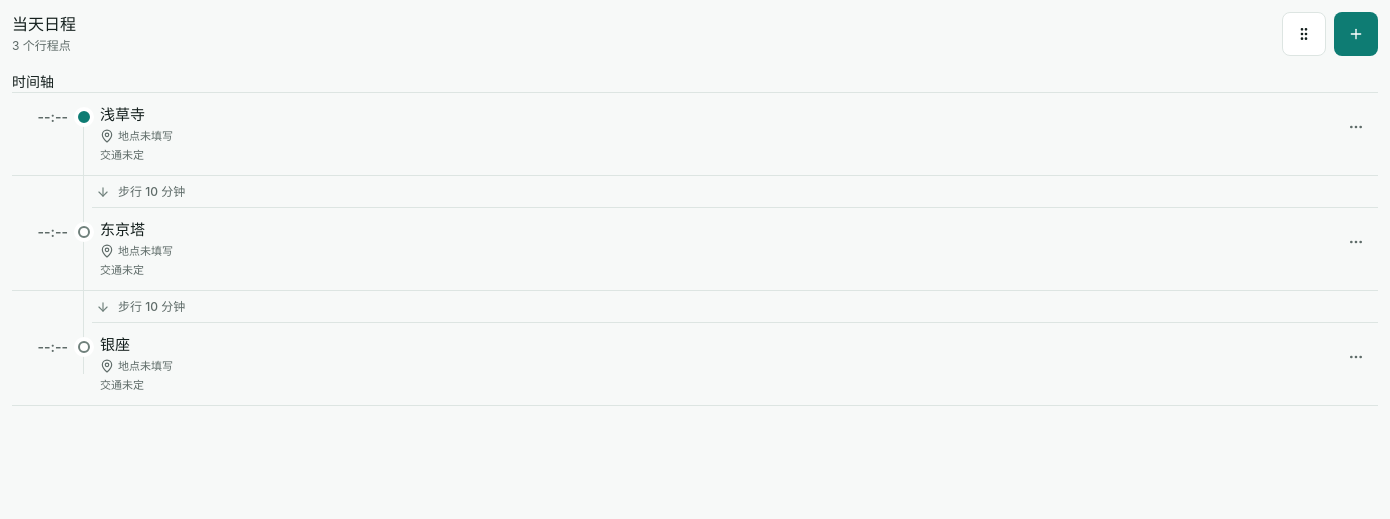
Scenario: DayTimelineView › previews, saves and reports an accessible manual order change
The image size is (1390, 519).
Click the button named "排序" at (1304, 34), box [1282, 12, 1326, 56]
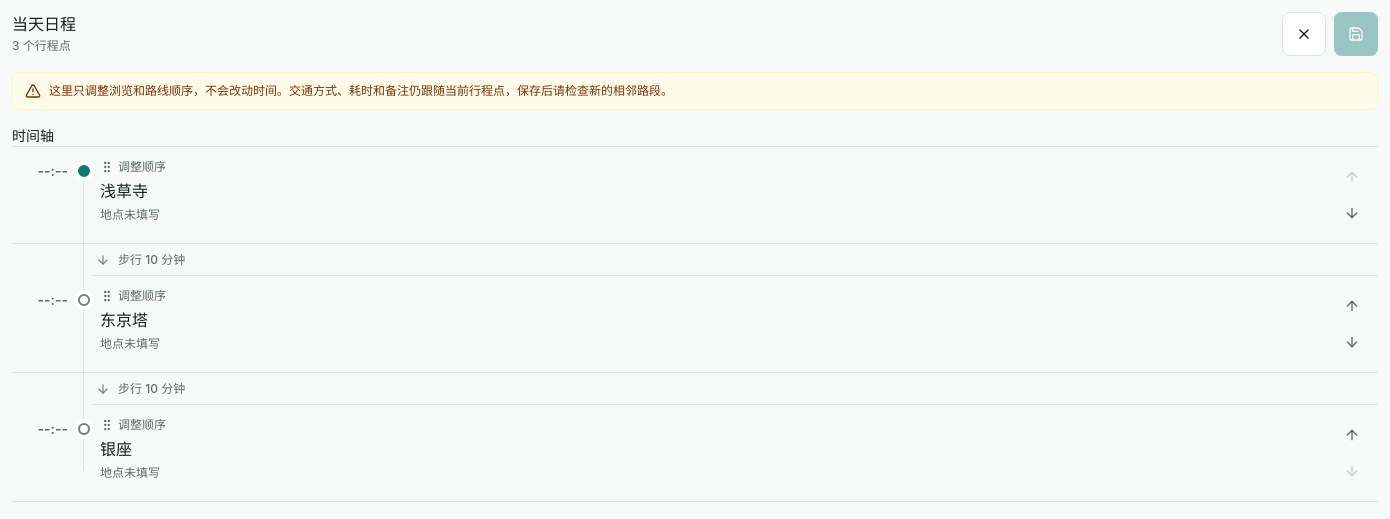
expect the text "这里只调整浏览和路线顺序" is shown: met, box [49, 83, 673, 98]
Click the button named "下移浅草寺" at (1352, 213), box [1334, 195, 1370, 231]
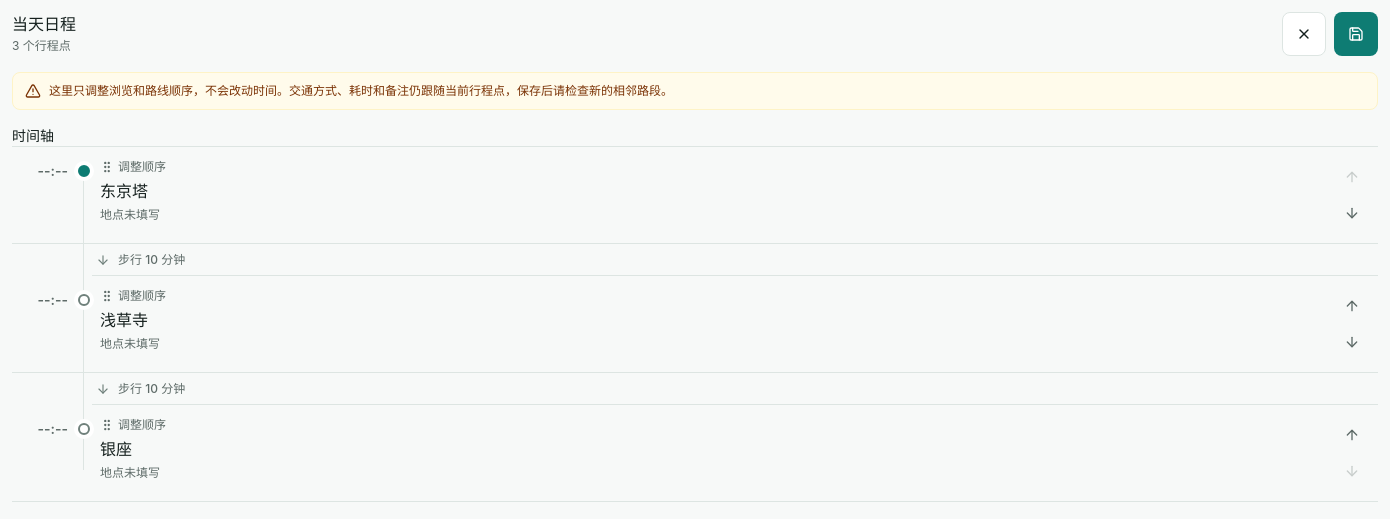
Click the button named "保存排序" at (1356, 34), box [1334, 12, 1378, 56]
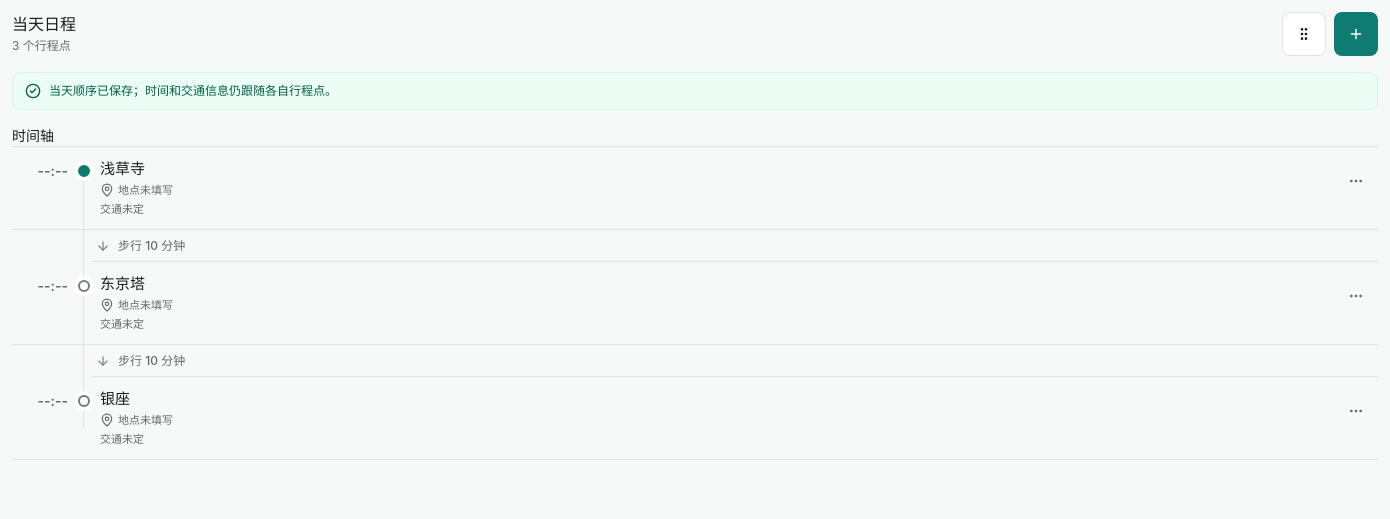
expect the text "当天顺序已保存" is shown: met, box [49, 83, 337, 98]
